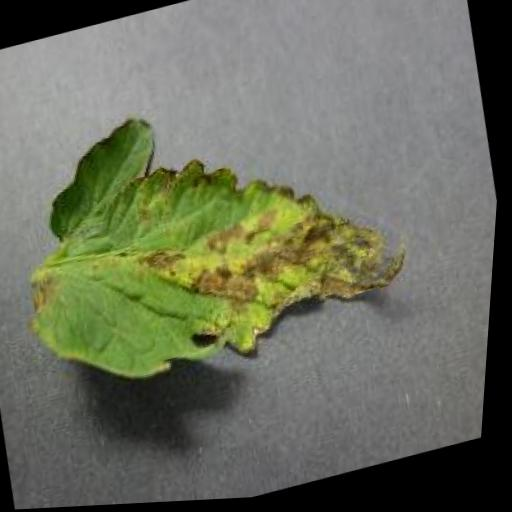Bacterial Spot: (0, 50, 436, 417)
